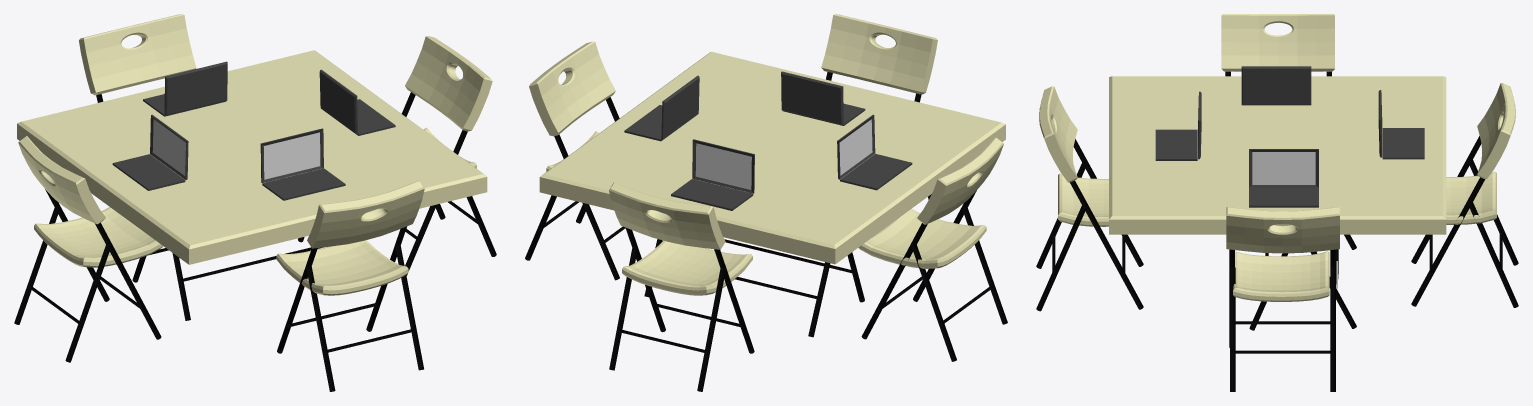
File: Mesa Simple.fbx
3 renders of one model, left to right at view 1: azimuth 30°, elevation 25°; view 2: azimuth 150°, elevation 25°; view 3: azimuth 270°, elevation 25°, orthographic. The views are drawn at different scales.
Visible parts, largest first — view 1: Cube.015; view 2: Cube.015; view 3: Cube.015.
Part boxes in pixels (x1,y1,x2,y2): Cube.015: [14, 14, 496, 391]; Cube.015: [525, 14, 1007, 391]; Cube.015: [1036, 14, 1518, 391].
Size of the model in its own units: 576 by 236 by 568.
